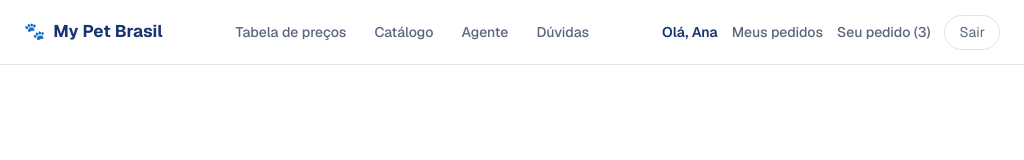
it: HubNav › Sair com falha: mostra erro e não limpa nada
Click the button "Sair": (972, 32) [944,14,1000,50]
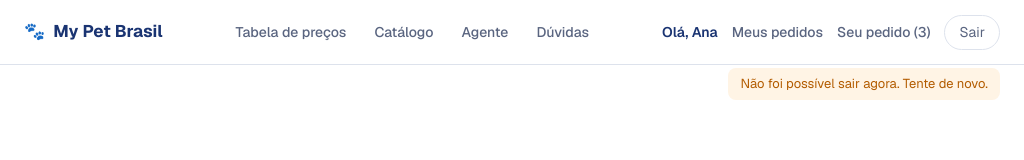
Check: the message reads "Não foi possível sair agora. Tente de novo.", box [740,75,988,92]
